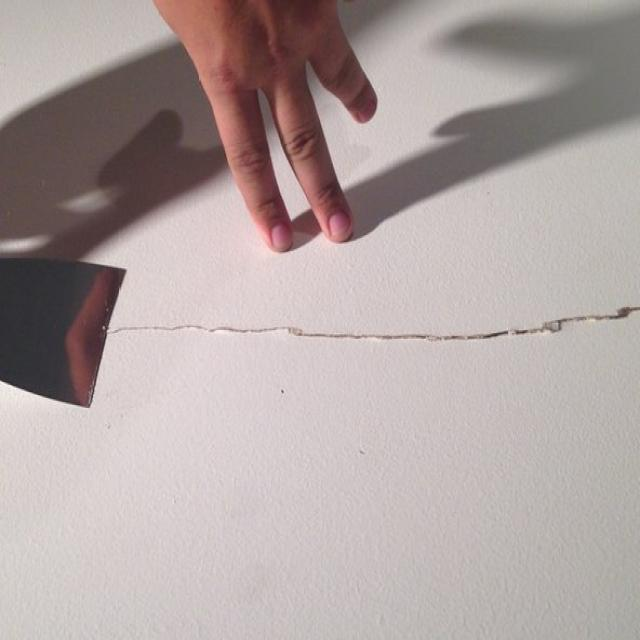leak: (104, 300, 640, 343)
